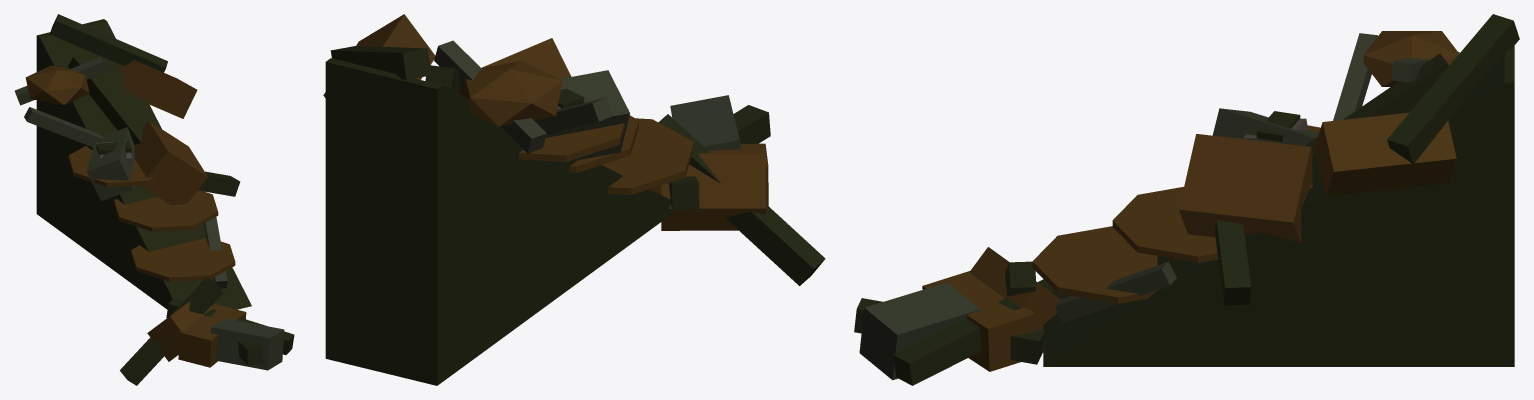
File: SM_PilaZombi_Altura2_s1_LOD0.fbx
3 views of the same model, side by side, from view 1: azimuth 30°, elevation 25°; view 2: azimuth 150°, elevation 25°; view 3: azimuth 270°, elevation 25° (orthographic). The views are drawn at different scales.
Visible parts, largest first — view 1: SM_pila_zombis_v6_LOD0; view 2: SM_pila_zombis_v6_LOD0; view 3: SM_pila_zombis_v6_LOD0.
Part boxes in pixels (bbox=[...]): SM_pila_zombis_v6_LOD0: bbox=[14, 14, 294, 385]; SM_pila_zombis_v6_LOD0: bbox=[323, 14, 825, 385]; SM_pila_zombis_v6_LOD0: bbox=[854, 14, 1519, 385].
Size of the model in its own units: 1.43 by 1.72 by 2.8.
